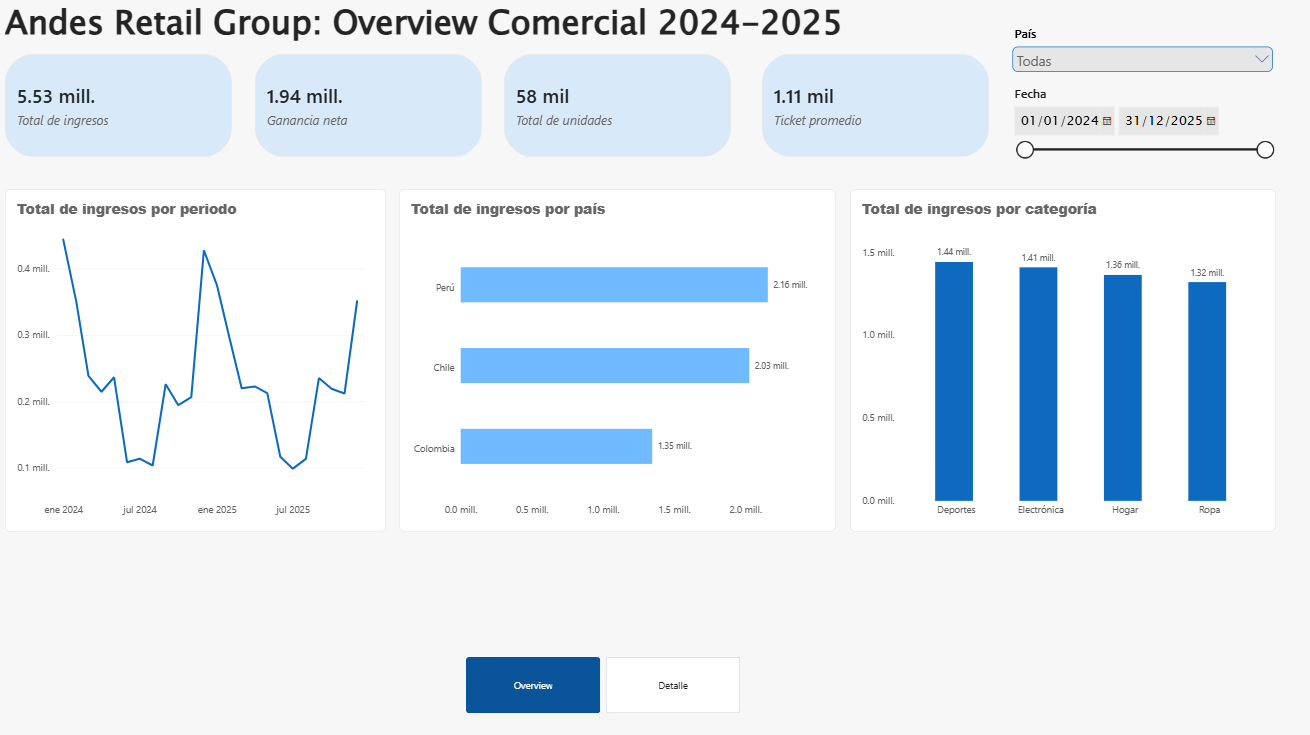

This screenshot's page, from the dashboard's own definition file:
{"tool":"powerbi","page":{"name":"Overview","canvas":[1920,1080],"ordinal":0},"visuals":[{"type":"textbox","box":[10,0,1281.4,81.4],"z":0},{"type":"cardVisual","fields":{"Data":["Andes_Retail_Group_2024_2025.Total_Ingresos"]},"box":[10,81.4,331.4,150],"z":1000},{"type":"cardVisual","fields":{"Data":["Andes_Retail_Group_2024_2025.Ganancia_Neta"]},"box":[374.3,81.4,331.4,150],"z":2000},{"type":"cardVisual","fields":{"Data":["Andes_Retail_Group_2024_2025.Ticket_Promedio"]},"box":[1114.3,81.4,331.4,150],"z":3000},{"type":"cardVisual","fields":{"Data":["Andes_Retail_Group_2024_2025.Total_Unidades"]},"box":[738.6,81.4,331.4,150],"z":4000},{"type":"lineChart","title":"Total de ingresos por periodo","fields":{"Category":["Andes_Retail_Group_2024_2025.Fecha_Pedido.Variación.Jerarquía de fechas.Año","Andes_Retail_Group_2024_2025.Fecha_Pedido.Variación.Jerarquía de fechas.Mes"],"Y":["Andes_Retail_Group_2024_2025.Total_Ingresos"]},"box":[10,278.6,555.7,500],"z":5000},{"type":"clusteredBarChart","title":"Total de ingresos por país","fields":{"Category":["Andes_Retail_Group_2024_2025.País"],"Y":["Andes_Retail_Group_2024_2025.Total_Ingresos"]},"box":[585.7,278.6,637.1,500],"z":6000},{"type":"columnChart","title":"Total de ingresos por categoría","fields":{"Category":["Andes_Retail_Group_2024_2025.Categoría_Producto"],"Y":["Andes_Retail_Group_2024_2025.Total_Ingresos"]},"box":[1242.9,278.6,621.4,500],"z":7000},{"type":"slicer","fields":{"Values":["Andes_Retail_Group_2024_2025.País"]},"box":[1474.3,41.4,390,71.4],"z":8000},{"type":"slicer","fields":{"Values":["Andes_Retail_Group_2024_2025.Fecha_Pedido"]},"box":[1474.3,128.6,390,150],"z":9000},{"type":"pageNavigator","box":[682.9,961.4,400,82.9],"z":10000}]}

Visuals, with their boxes in screenshot pixels (x1, y1, x2, y2), scaled from the page's 1920x1080 canvas onto the 1310x735 screenshot:
textbox: crop(7, 0, 881, 55)
cardVisual - Andes_Retail_Group_2024_2025.Total_Ingresos: crop(7, 55, 233, 157)
cardVisual - Andes_Retail_Group_2024_2025.Ganancia_Neta: crop(255, 55, 481, 157)
cardVisual - Andes_Retail_Group_2024_2025.Ticket_Promedio: crop(760, 55, 986, 157)
cardVisual - Andes_Retail_Group_2024_2025.Total_Unidades: crop(504, 55, 730, 157)
"Total de ingresos por periodo" lineChart: crop(7, 190, 386, 530)
"Total de ingresos por país" clusteredBarChart: crop(400, 190, 834, 530)
"Total de ingresos por categoría" columnChart: crop(848, 190, 1272, 530)
slicer - Andes_Retail_Group_2024_2025.País: crop(1006, 28, 1272, 77)
slicer - Andes_Retail_Group_2024_2025.Fecha_Pedido: crop(1006, 88, 1272, 190)
pageNavigator: crop(466, 654, 739, 711)
